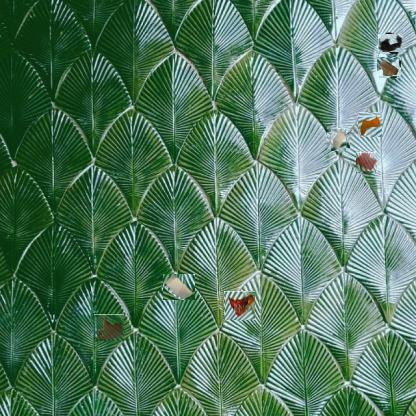dirty: (224, 291, 256, 320), (163, 274, 195, 300), (358, 112, 382, 136), (378, 55, 400, 77), (380, 33, 402, 54), (329, 130, 348, 150)
liquid: (94, 314, 124, 341), (356, 152, 377, 172)
